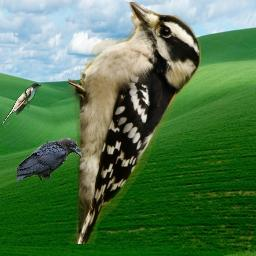Crow: (17, 137, 83, 182)
Cuckoo: (1, 83, 41, 126)
Woodpecker: (68, 2, 201, 244)
